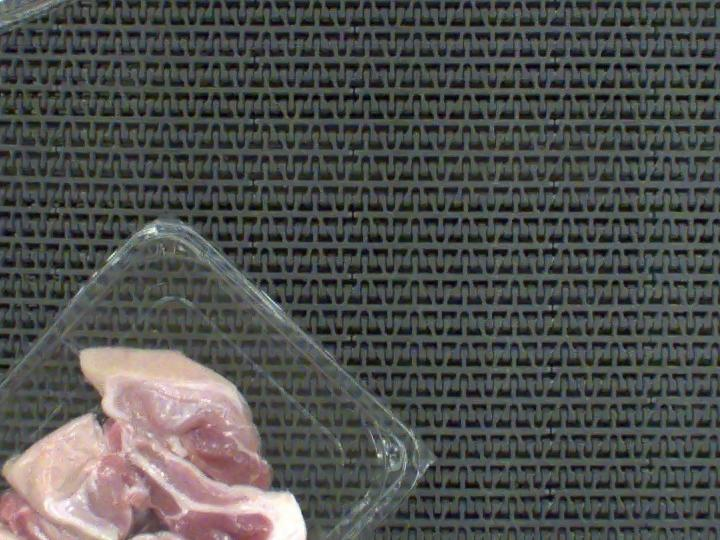twisted-meat: (27, 336, 220, 540)
